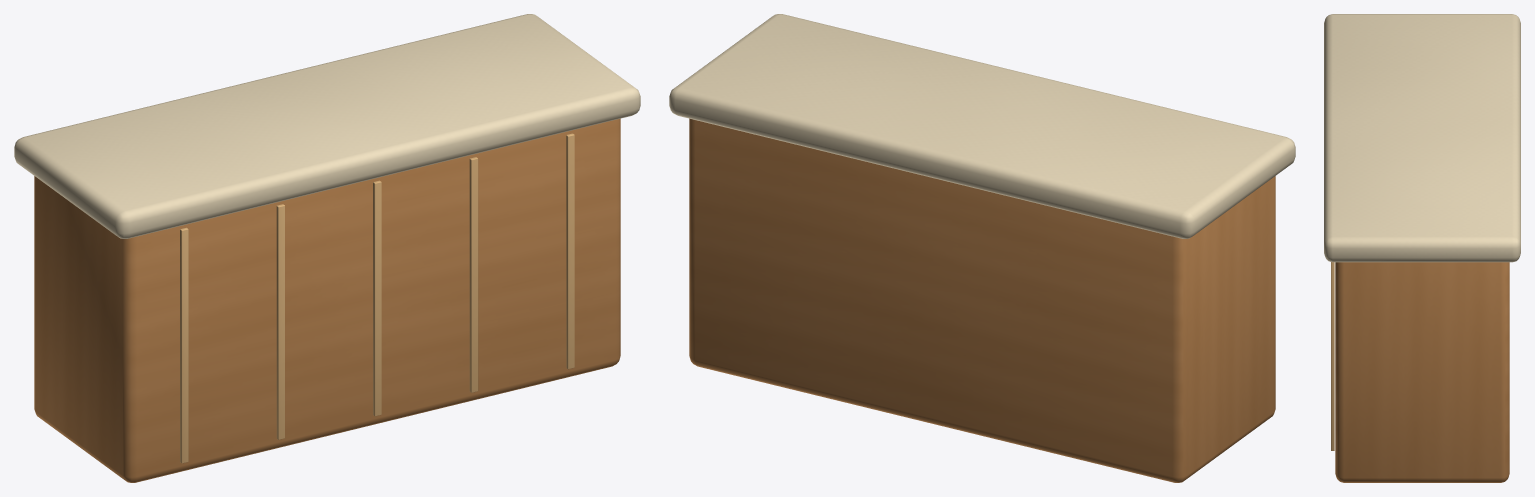
File: ENV_Bakery_Counter_001.fbx
The picture shows the model from 3 angles, left to right: view 1: azimuth 30°, elevation 25°; view 2: azimuth 150°, elevation 25°; view 3: azimuth 270°, elevation 25°; orthographic projection. The views are drawn at different scales.
Visible parts, largest first — view 1: IMG2_ENV_Bakery_Counter; view 2: IMG2_ENV_Bakery_Counter; view 3: IMG2_ENV_Bakery_Counter.
Part boxes in pixels (<box>): IMG2_ENV_Bakery_Counter: <box>14,14,640,482</box>; IMG2_ENV_Bakery_Counter: <box>669,14,1295,482</box>; IMG2_ENV_Bakery_Counter: <box>1324,14,1520,482</box>.
Bounding box in the file's own units: 218 × 111 × 79.
